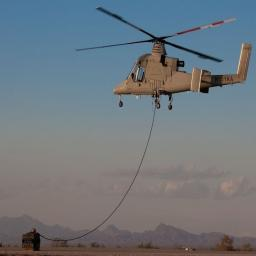helicopter: (77, 7, 253, 112)
